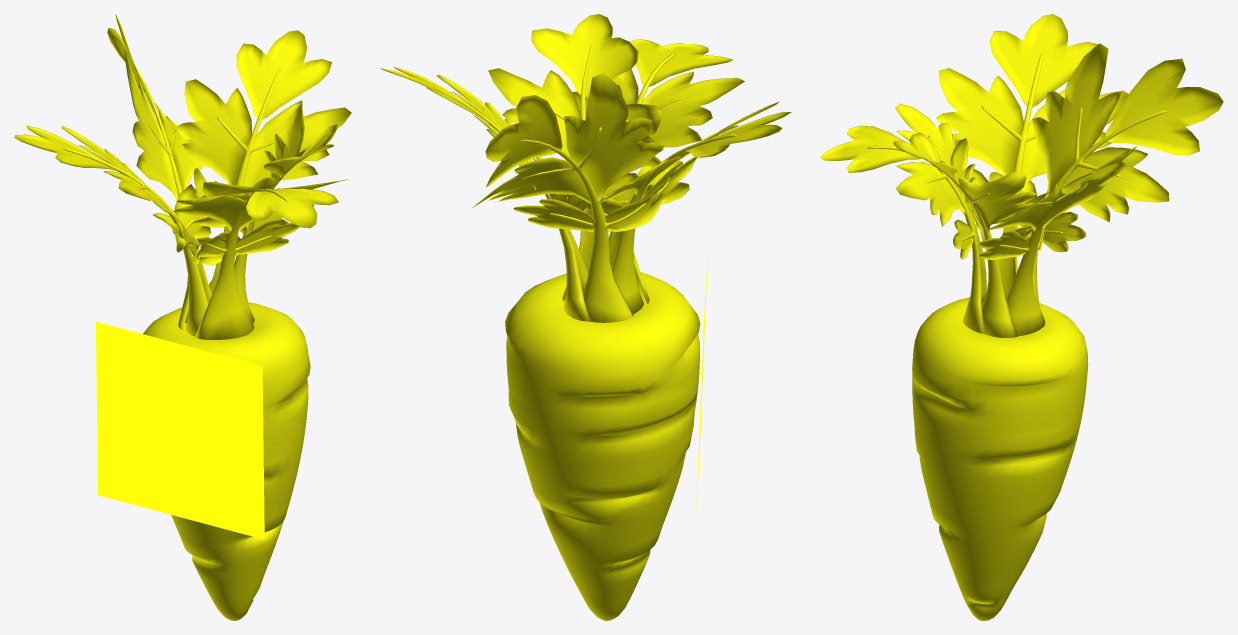
Rendered from cartoon_carrot.glb.
The picture shows the model from 3 angles, left to right: view 1: azimuth 30°, elevation 25°; view 2: azimuth 150°, elevation 25°; view 3: azimuth 270°, elevation 25°; orthographic projection. The views are drawn at different scales.
Parts seen in each view (by area): view 1: carrot_leaves, Plane, carrot; view 2: carrot_leaves, carrot; view 3: carrot_leaves, carrot.
Boxes of the visible parts, x1,y1,x2,y2 form: carrot_leaves: [14, 14, 351, 339]; Plane: [96, 321, 264, 539]; carrot: [143, 302, 310, 620]; carrot_leaves: [380, 14, 791, 322]; carrot: [505, 272, 700, 620]; carrot_leaves: [820, 14, 1223, 337]; carrot: [912, 297, 1088, 620].
Bounding box in the file's own units: 1.96 × 3.05 × 2.03.
Materials: 3 (3 with a texture image).
